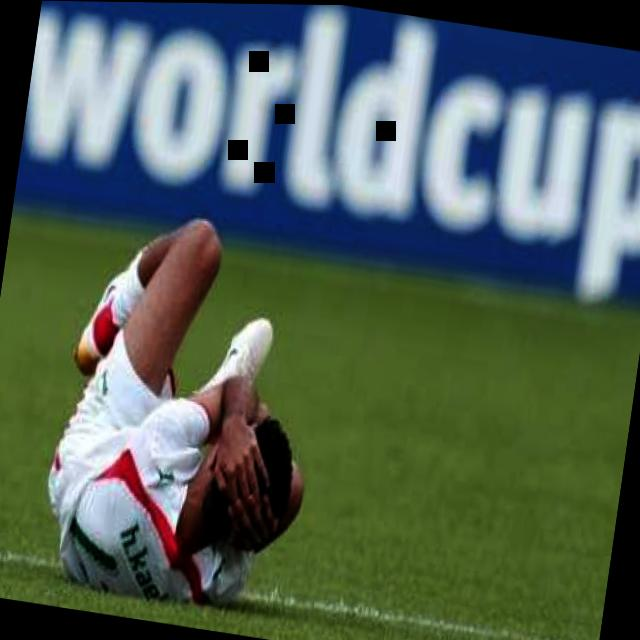Fall-Detected: (18, 167, 344, 629)
